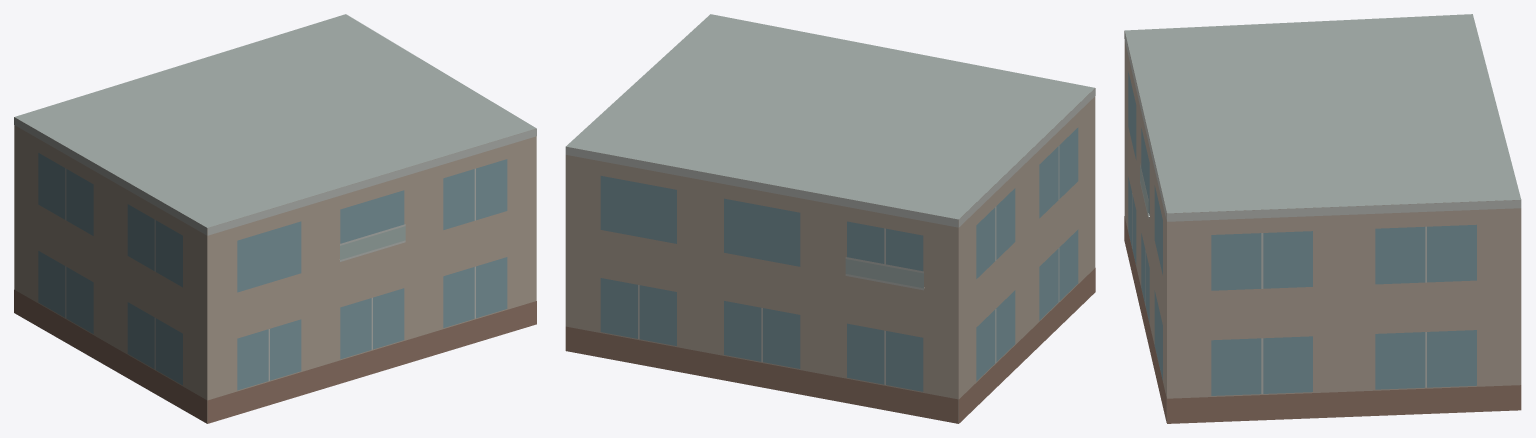
File: survey-upis-32912254.glb
The picture shows the model from 3 angles, left to right: view 1: azimuth 30°, elevation 25°; view 2: azimuth 150°, elevation 25°; view 3: azimuth 270°, elevation 25°; orthographic projection. The views are drawn at different scales.
Parts seen in each view (by area): view 1: survey-upis-32912254.tmp; view 2: survey-upis-32912254.tmp; view 3: survey-upis-32912254.tmp.
Part boxes in pixels (x1,y1,x2,y2): survey-upis-32912254.tmp: (14, 14, 536, 423); survey-upis-32912254.tmp: (565, 14, 1095, 423); survey-upis-32912254.tmp: (1124, 14, 1521, 423).
Size of the model in its own units: 12.4 by 6.1 by 10.43.
